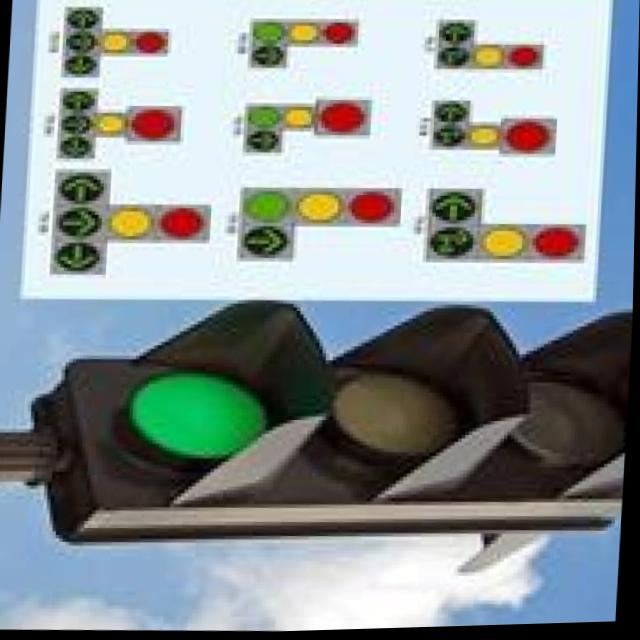green_light: (104, 314, 319, 532)
